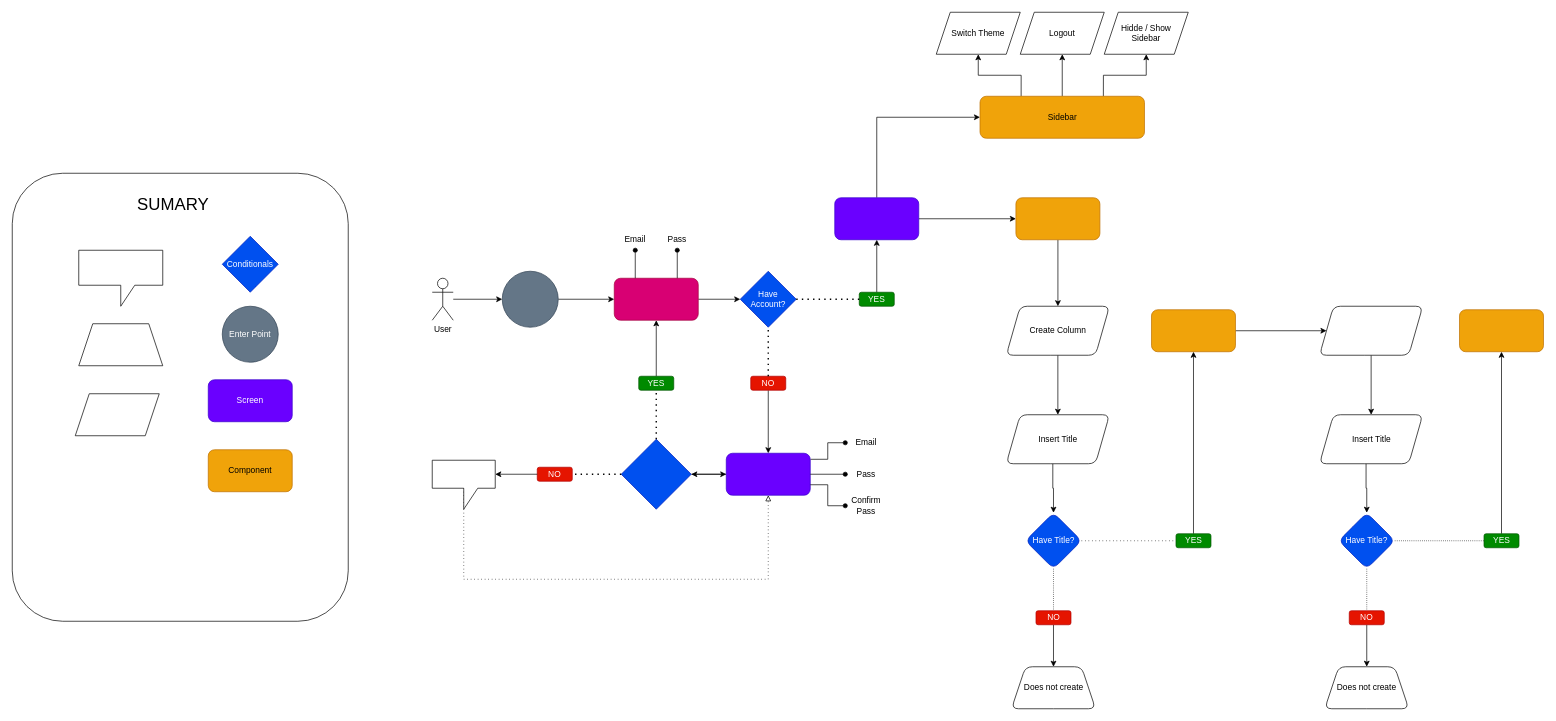
The diagram is 1556 pixels wide and 721 high, and some of its shapes have lost their labels. The shapes that lost their labels are listed below. From the top down, each one's box as (x1, y1, x2, y2) in pixels, then its label:
(834, 197, 919, 240): Main Screen
(1015, 197, 1100, 240): Board
(78, 250, 163, 306): Messages
(502, 271, 558, 327): Access Landing page
(614, 278, 698, 320): Login Screen
(78, 323, 163, 366): Do nothing
(1151, 309, 1236, 352): New Column
(1319, 306, 1423, 355): Create Card
(1459, 309, 1544, 352): New Card
(75, 393, 159, 436): Actions
(432, 460, 495, 509): Error Message
(621, 439, 691, 509): Registration Success?
(726, 453, 810, 495): Registration Screen
